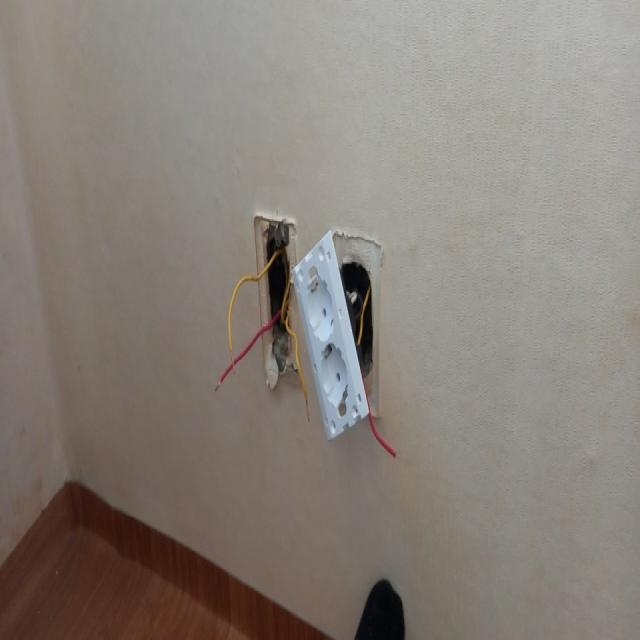typeb: (292, 243, 365, 461)
